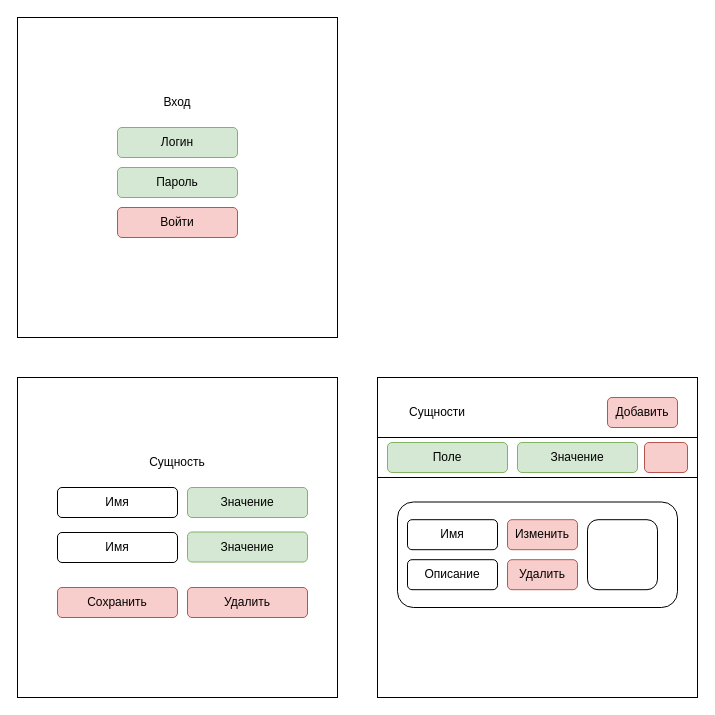
The diagram is 715 pixels wide and 715 high, and some of its shapes have lost their labels. The shapes that lost their labels are listed below. From the top down, each one's centre as x and y in pixels, then its label:
the point at 666,457: Поиск
the point at 622,554: Картинка
